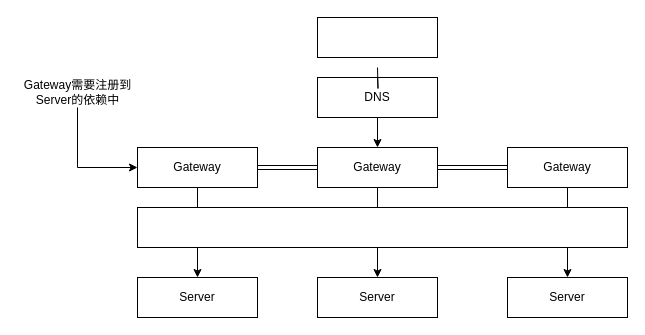
This 645x335 diagram has some shape labels left out. Each missing label, with the centre of its shape:
Client: (377,37)
需支持Bind机器节点: (382,227)
